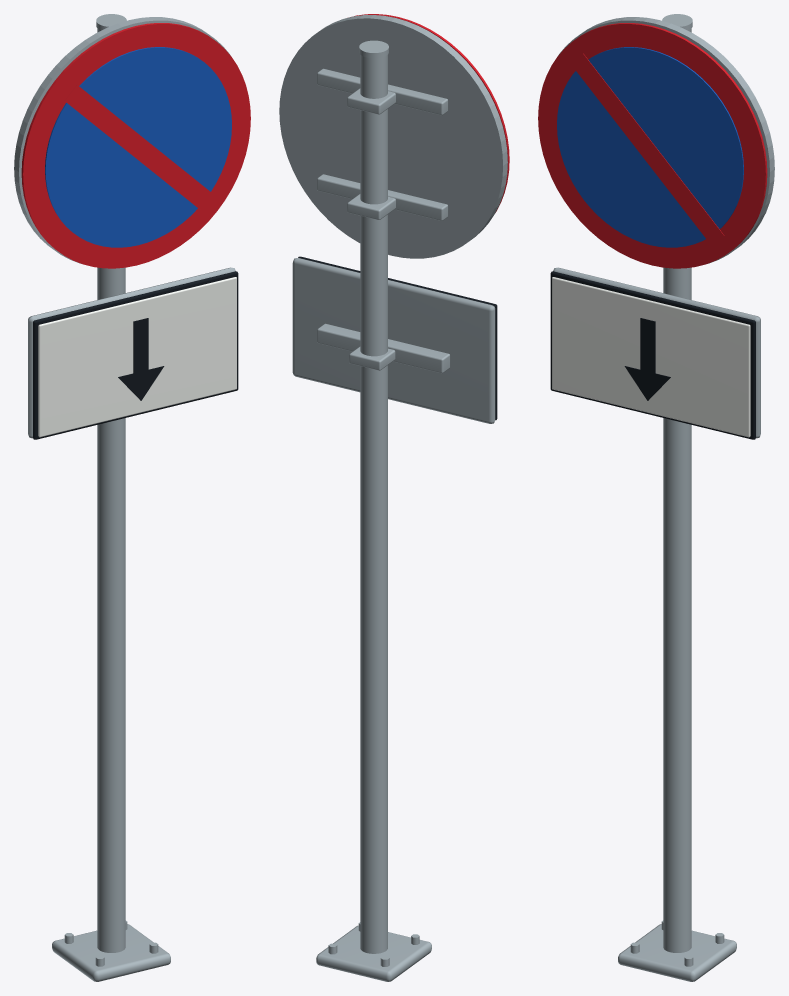
Rendered from DS_Sign_NoParking_ZoneEnd.fbx.
The picture shows the model from 3 angles, left to right: view 1: azimuth 30°, elevation 25°; view 2: azimuth 150°, elevation 25°; view 3: azimuth 330°, elevation 25°; orthographic projection. The views are drawn at different scales.
Parts seen in each view (by area): view 1: Face_Field.015, PlaqueFace.012, Post.022, Face_Border.015, ProhibitionSlash0.003, BasePlate.022, Plate_Back.029, PlaqueBorder.012, Plate_Back.030, DirectionArrow.014; view 2: Plate_Back.029, Post.022, Plate_Back.030, BasePlate.022, RearRail.048, RearRail.047, RearRail.046, PlaqueBorder.012, PostClamp.043, PostClamp.042, Face_Border.015, PostClamp.044; view 3: Face_Field.015, PlaqueFace.012, Post.022, Face_Border.015, ProhibitionSlash0.003, BasePlate.022, Plate_Back.029, PlaqueBorder.012, Plate_Back.030, DirectionArrow.014.
Boxes of the visible parts, x1,y1,x2,y2 form: Face_Field.015: (45,47,231,247); PlaqueFace.012: (38,277,236,437); Post.022: (97,28,125,952); Face_Border.015: (21,23,250,268); ProhibitionSlash0.003: (64,85,218,213); BasePlate.022: (52,924,170,981); Plate_Back.029: (14,17,230,263); PlaqueBorder.012: (33,271,238,439); Plate_Back.030: (28,267,235,438); DirectionArrow.014: (118,318,164,400); Plate_Back.029: (279,15,507,258); Post.022: (360,55,387,953); Plate_Back.030: (292,258,495,423); BasePlate.022: (316,925,431,981); RearRail.048: (317,323,450,373); RearRail.047: (317,68,448,115); RearRail.046: (317,174,448,220); PlaqueBorder.012: (298,256,497,420); PostClamp.043: (347,88,395,114); PostClamp.042: (347,194,395,219); Face_Border.015: (354,14,509,212); PostClamp.044: (349,346,395,370); Face_Field.015: (557,47,743,247); PlaqueFace.012: (552,277,750,437); Post.022: (663,28,691,952); Face_Border.015: (538,23,767,268); ProhibitionSlash0.003: (570,53,724,245); BasePlate.022: (618,924,736,981); Plate_Back.029: (558,17,774,263); PlaqueBorder.012: (550,271,755,439); Plate_Back.030: (553,267,760,438); DirectionArrow.014: (624,318,670,400).
Bounding box in the file's own units: 71 × 281 × 28.1.
